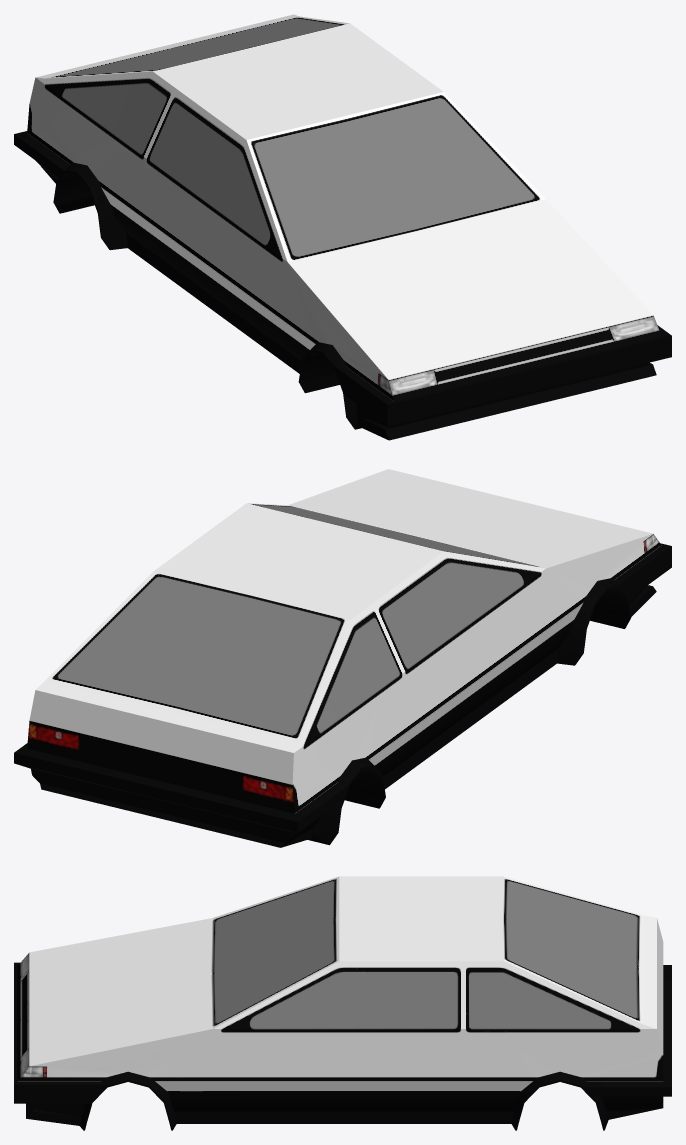
File: Car.fbx
The picture shows the model from 3 angles, top to bottom: view 1: azimuth 30°, elevation 25°; view 2: azimuth 150°, elevation 25°; view 3: azimuth 270°, elevation 25°; orthographic projection. The views are drawn at different scales.
Visible parts, largest first — view 1: Car; view 2: Car; view 3: Car.
Part boxes in pixels (x1,y1,x2,y2): Car: (14, 14, 671, 440); Car: (14, 469, 671, 847); Car: (14, 876, 671, 1130).
Bounding box in the file's own units: 212 × 156 × 483.
Materials: 2 (1 with a texture image).
